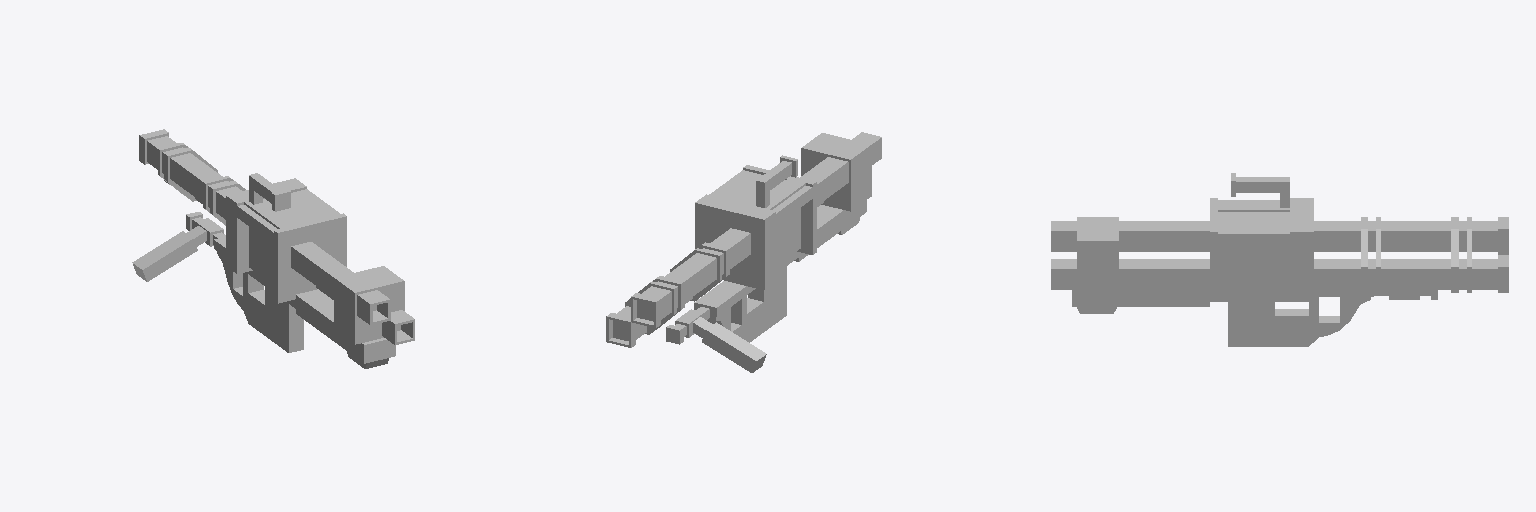
Rendered from preview_spnkrx.obj.
The picture shows the model from 3 angles: view 1: azimuth 30°, elevation 25°; view 2: azimuth 150°, elevation 25°; view 3: azimuth 270°, elevation 25°; orthographic projection.
Visible parts, largest first — view 1: Cube_Cube.001; view 2: Cube_Cube.001; view 3: Cube_Cube.001.
Boxes of the visible parts, x1,y1,x2,y2 form: Cube_Cube.001: [132, 129, 414, 368]; Cube_Cube.001: [606, 132, 881, 372]; Cube_Cube.001: [1051, 173, 1508, 346].
Size of the model in its own units: 25 by 34 by 88.